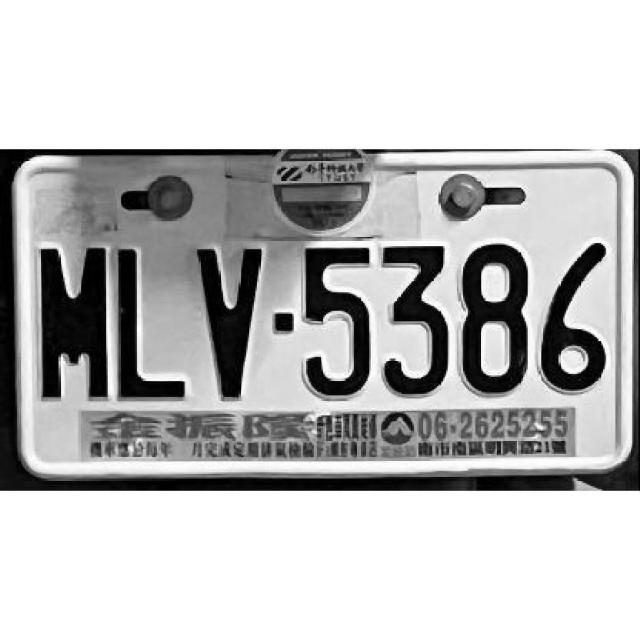-: (274, 316, 295, 336)
3: (377, 235, 449, 397)
5: (298, 242, 374, 398)
6: (537, 231, 614, 397)
8: (457, 234, 534, 397)
L: (120, 246, 194, 394)
M: (38, 248, 112, 402)
V: (197, 245, 269, 397)
